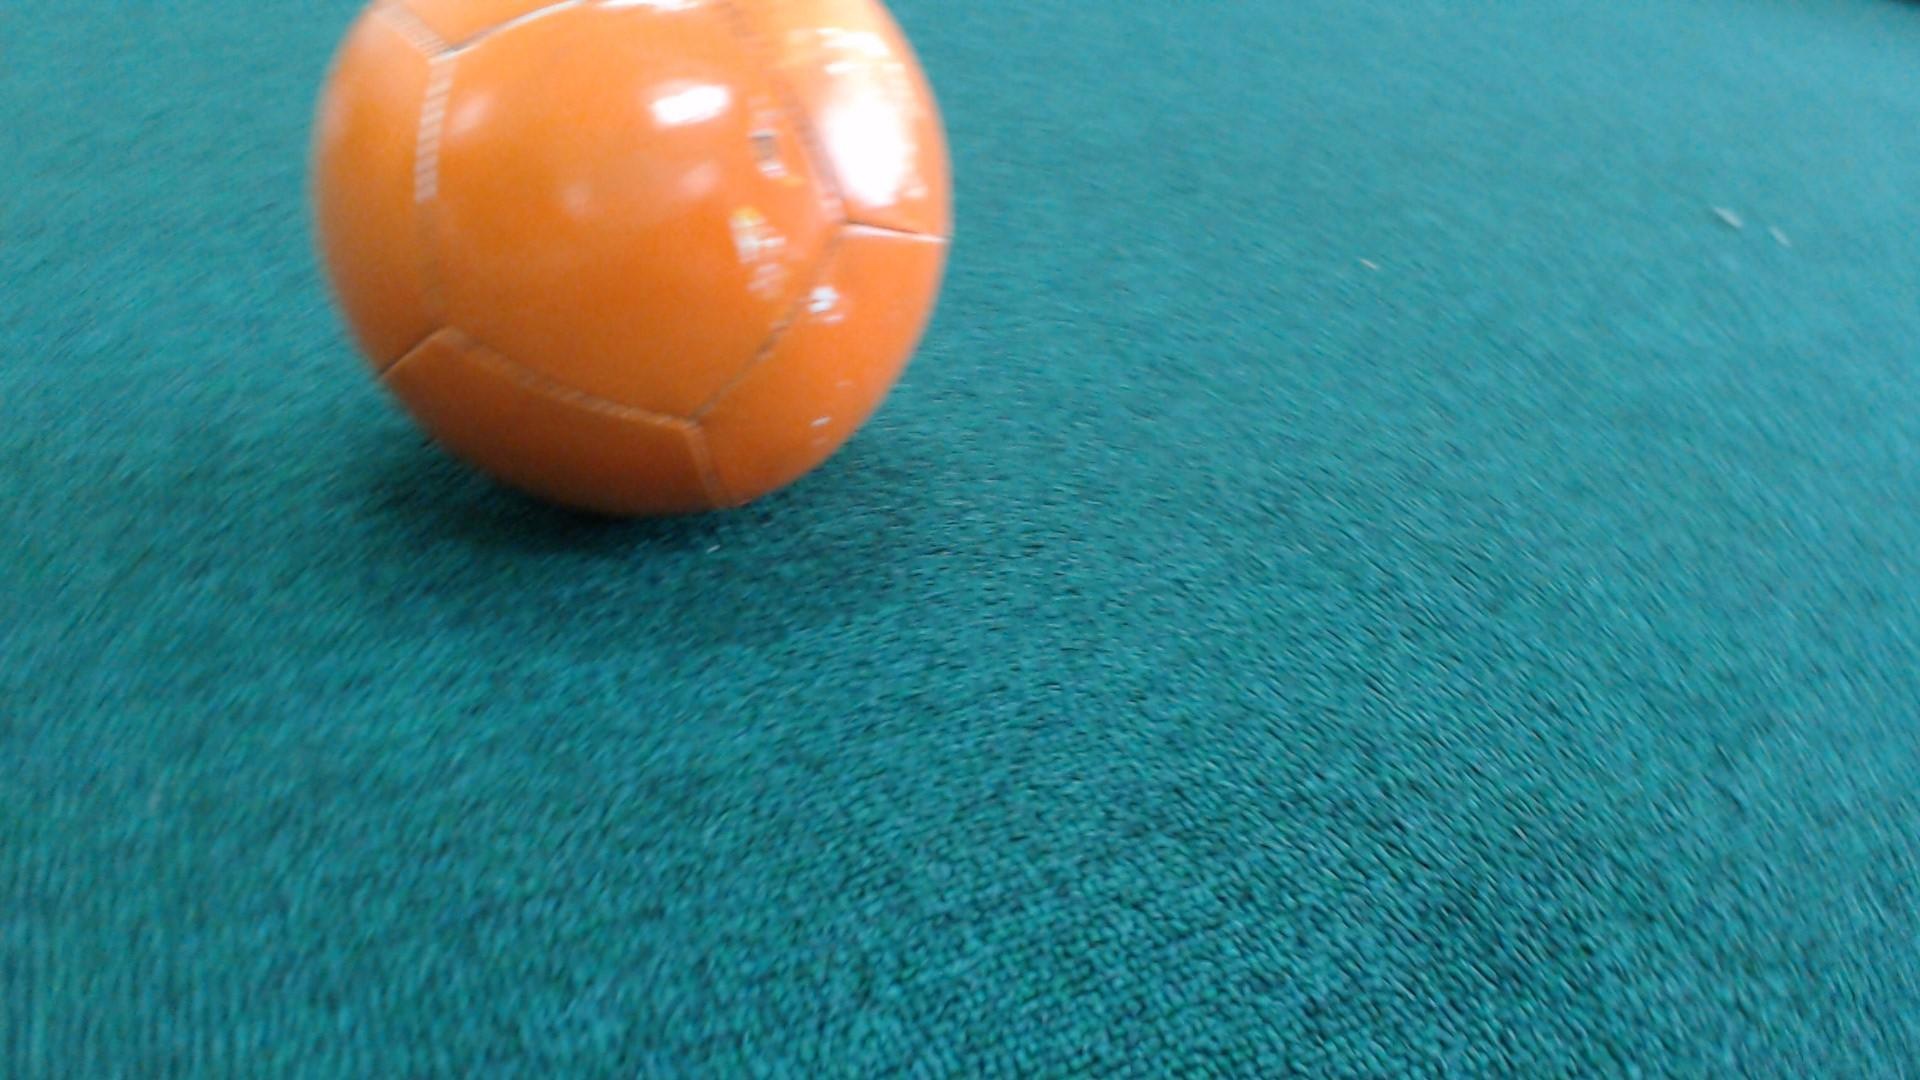bola: (284, 0, 988, 547)
